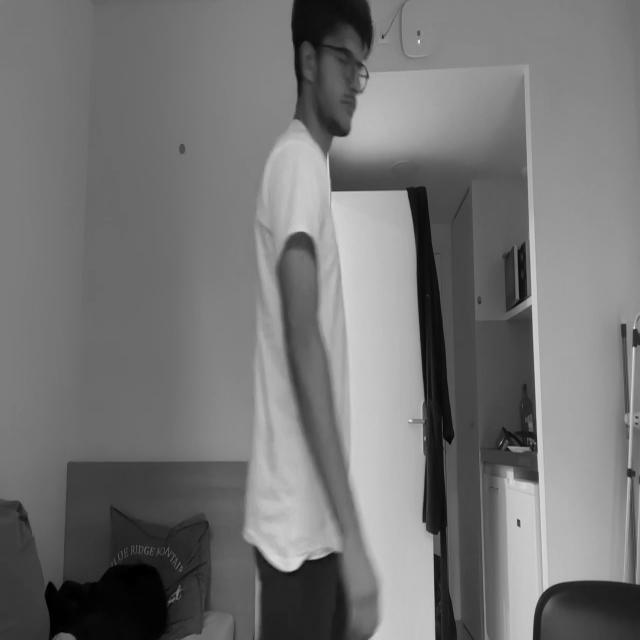elbow: (285, 311, 320, 372)
hand: (344, 538, 383, 636)
shoulder: (269, 137, 326, 228)
